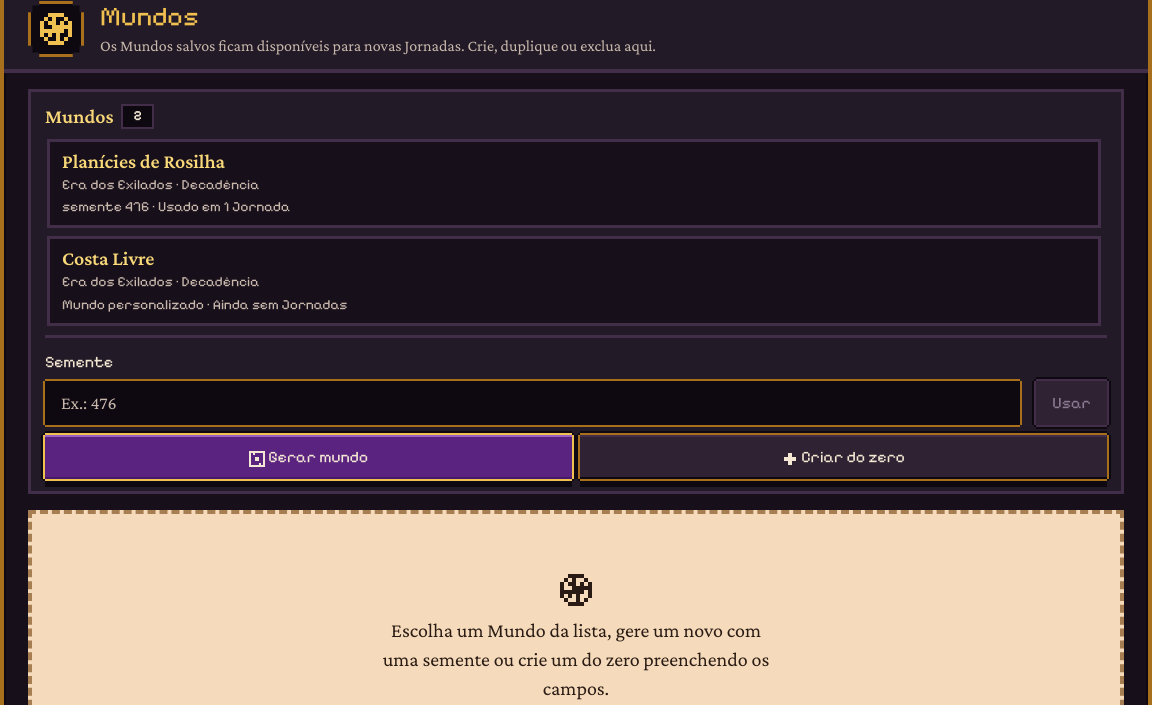
Tela de Mundos (modelo provisório) › Mundo em uso: o diálogo explica e não deixa excluir
Click the option "Planícies de Rosilha".
click(144, 161)  # box left=47, top=139, right=1101, bottom=228
(page scrolled)
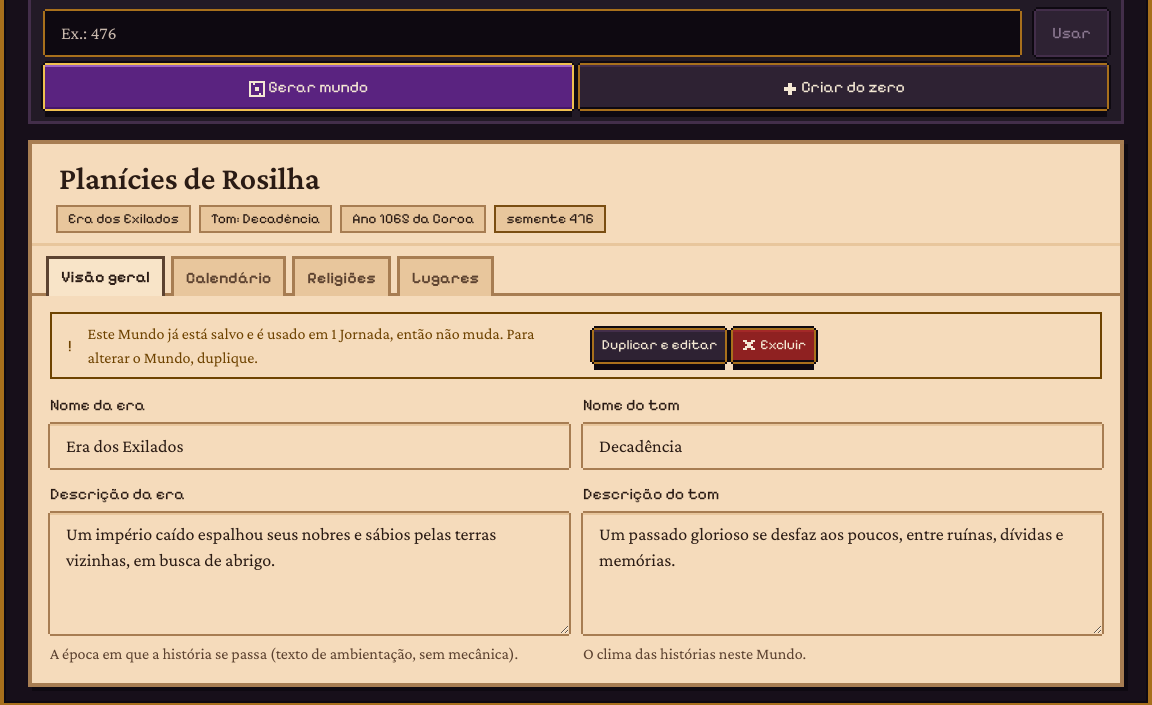
Click the button "Excluir".
click(774, 346)  # box left=733, top=330, right=814, bottom=362
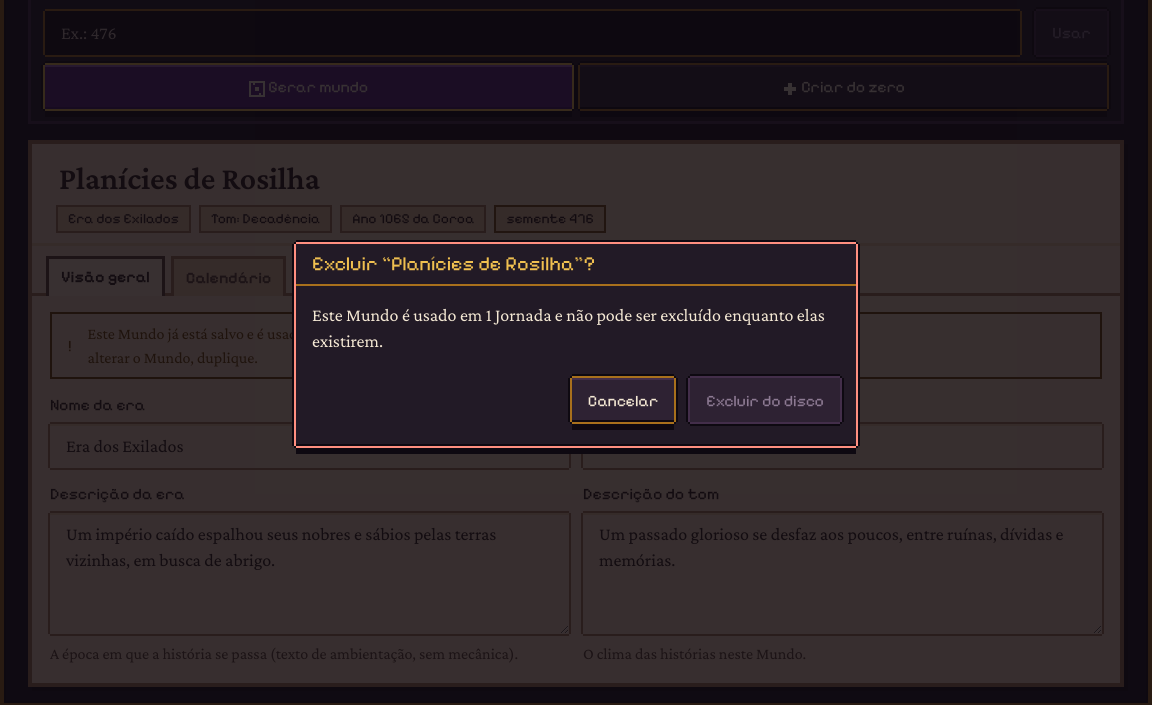
Now the dialog shows "usado em 1 Jornada e não pode ser excluído", box left=312, top=305, right=825, bottom=351
Now the button "Excluir do disco" is disabled, box left=690, top=378, right=840, bottom=422
